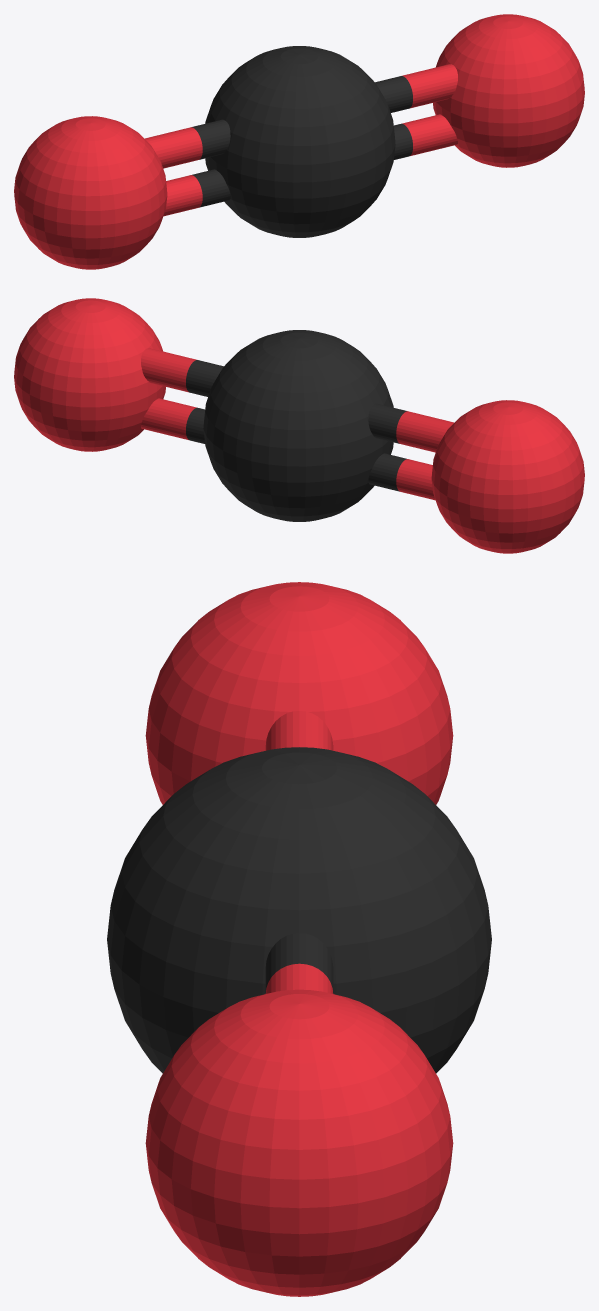
Rendered from carbonDioxide.glb.
The picture shows the model from 3 angles, top to bottom: view 1: azimuth 30°, elevation 25°; view 2: azimuth 150°, elevation 25°; view 3: azimuth 270°, elevation 25°; orthographic projection. The views are drawn at different scales.
Visible parts, largest first — view 1: Sphere, oxygenL, oxygenR, Cylinder, Cylinder.003, Cylinder.001, Cylinder.002; view 2: Sphere, oxygenL, oxygenR, Cylinder, Cylinder.003, Cylinder.001, Cylinder.002; view 3: Sphere, oxygenR, oxygenL, Cylinder.003, Cylinder.
Part boxes in pixels (x1,y1,x2,y2): Sphere: [205, 46, 395, 237]; oxygenL: [14, 116, 167, 269]; oxygenR: [433, 14, 584, 167]; Cylinder: [145, 119, 230, 168]; Cylinder.003: [375, 64, 457, 112]; Cylinder.001: [163, 169, 230, 216]; Cylinder.002: [393, 114, 457, 159]; Sphere: [203, 330, 393, 521]; oxygenL: [431, 400, 584, 553]; oxygenR: [14, 298, 165, 451]; Cylinder: [368, 403, 453, 452]; Cylinder.003: [141, 348, 223, 396]; Cylinder.001: [368, 453, 435, 500]; Cylinder.002: [141, 398, 205, 443]; Sphere: [107, 747, 491, 1073]; oxygenR: [145, 989, 453, 1296]; oxygenL: [145, 582, 453, 804]; Cylinder.003: [265, 933, 333, 993]; Cylinder: [265, 711, 333, 750].
Size of the model in its own units: 8.27 by 2.5 by 2.5.
